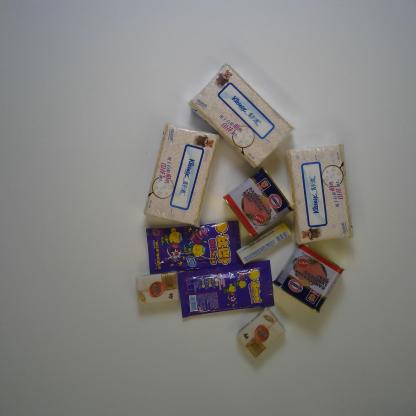Candy: (178, 259, 275, 318), (145, 220, 241, 274), (236, 222, 293, 266)
Canned Food: (224, 165, 294, 240), (272, 243, 345, 313)
Tissue: (187, 63, 295, 170), (143, 122, 220, 228), (284, 142, 352, 245), (236, 306, 286, 358), (135, 270, 180, 305)
